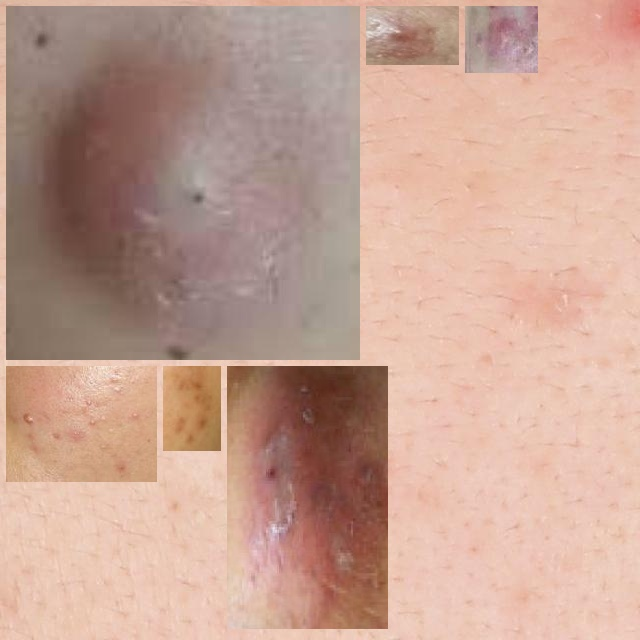nodule: (14, 14, 352, 352), (235, 374, 380, 621), (14, 374, 149, 474), (374, 14, 451, 57), (473, 14, 530, 65), (171, 374, 213, 443)
